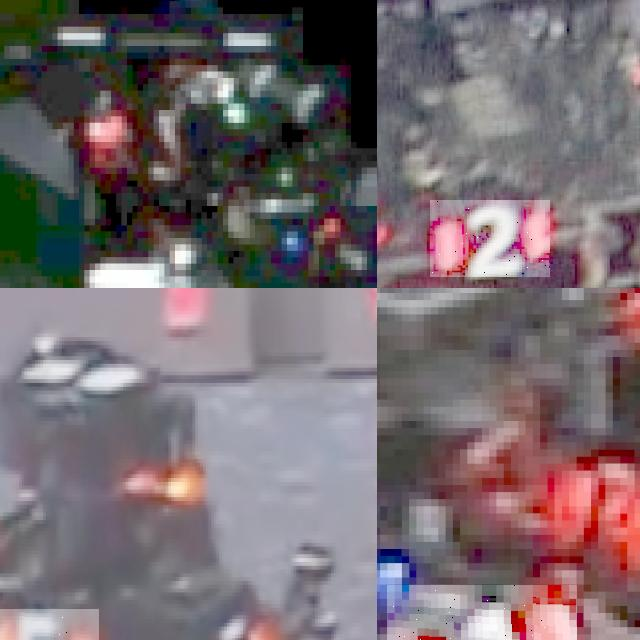R1: (387, 584, 576, 640)
R2: (430, 200, 550, 277)
R5: (0, 609, 98, 640), (203, 615, 277, 640)
